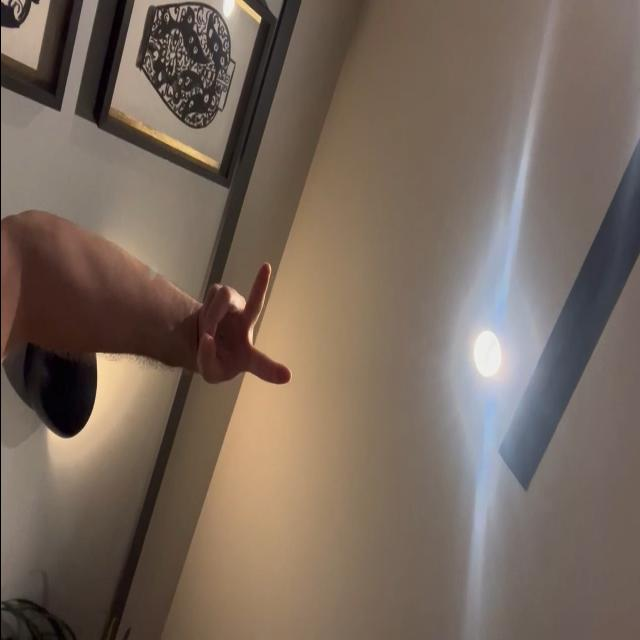Scissors: (195, 260, 292, 384)
